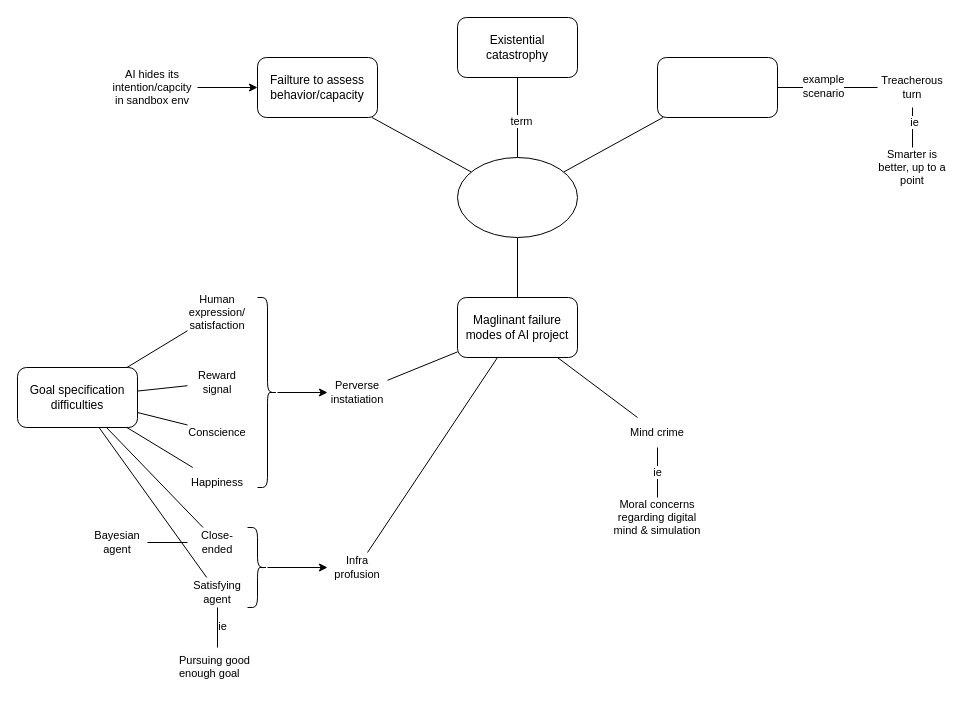
This 965x705 diagram has some shape labels left out. The box of each missing label's shape, as (x1, y1, x2, y2) in pixels:
Neglegence of warning: (656, 56, 778, 118)
Outcome: (456, 156, 578, 238)
